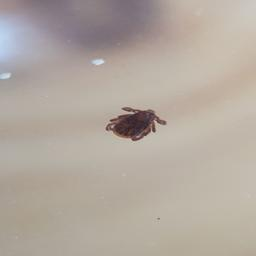Rhipicephalus sanguineus: (105, 106, 167, 142)
